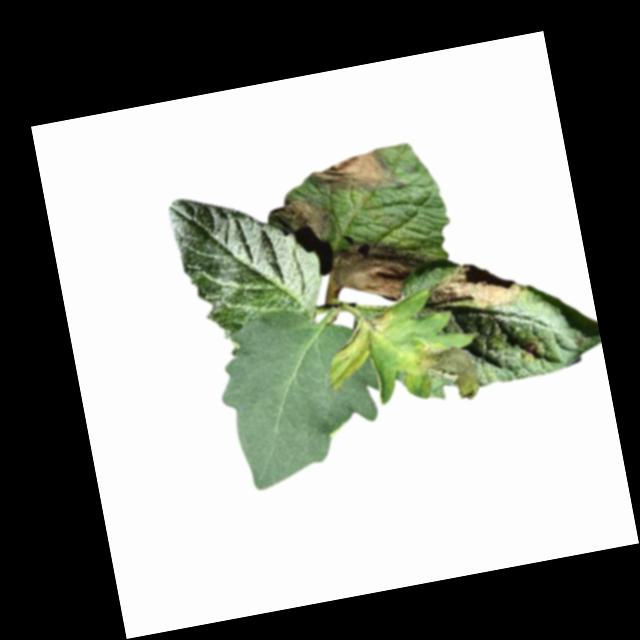Late_blight: (323, 231, 432, 312), (416, 249, 525, 320), (401, 332, 482, 409), (306, 145, 405, 204), (332, 307, 403, 373), (274, 191, 337, 246), (518, 340, 541, 362)
